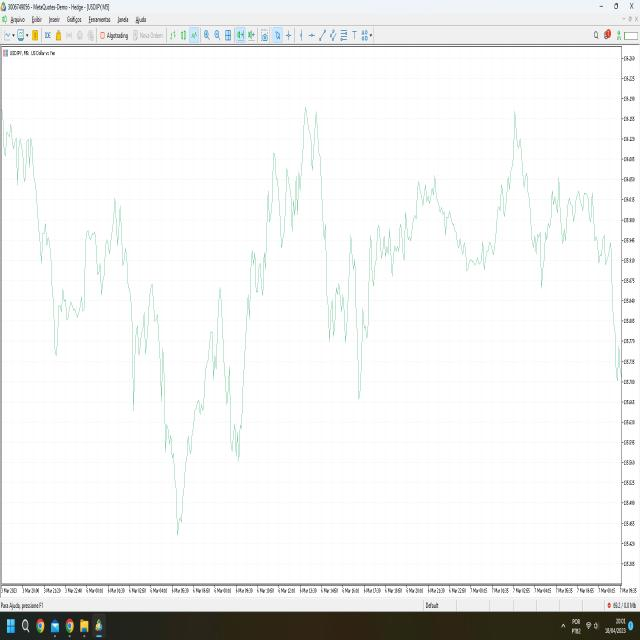bandeira_baixa: (26, 139, 80, 362)
oco_inv: (118, 262, 259, 562)
topo_duplo: (298, 86, 331, 222)
